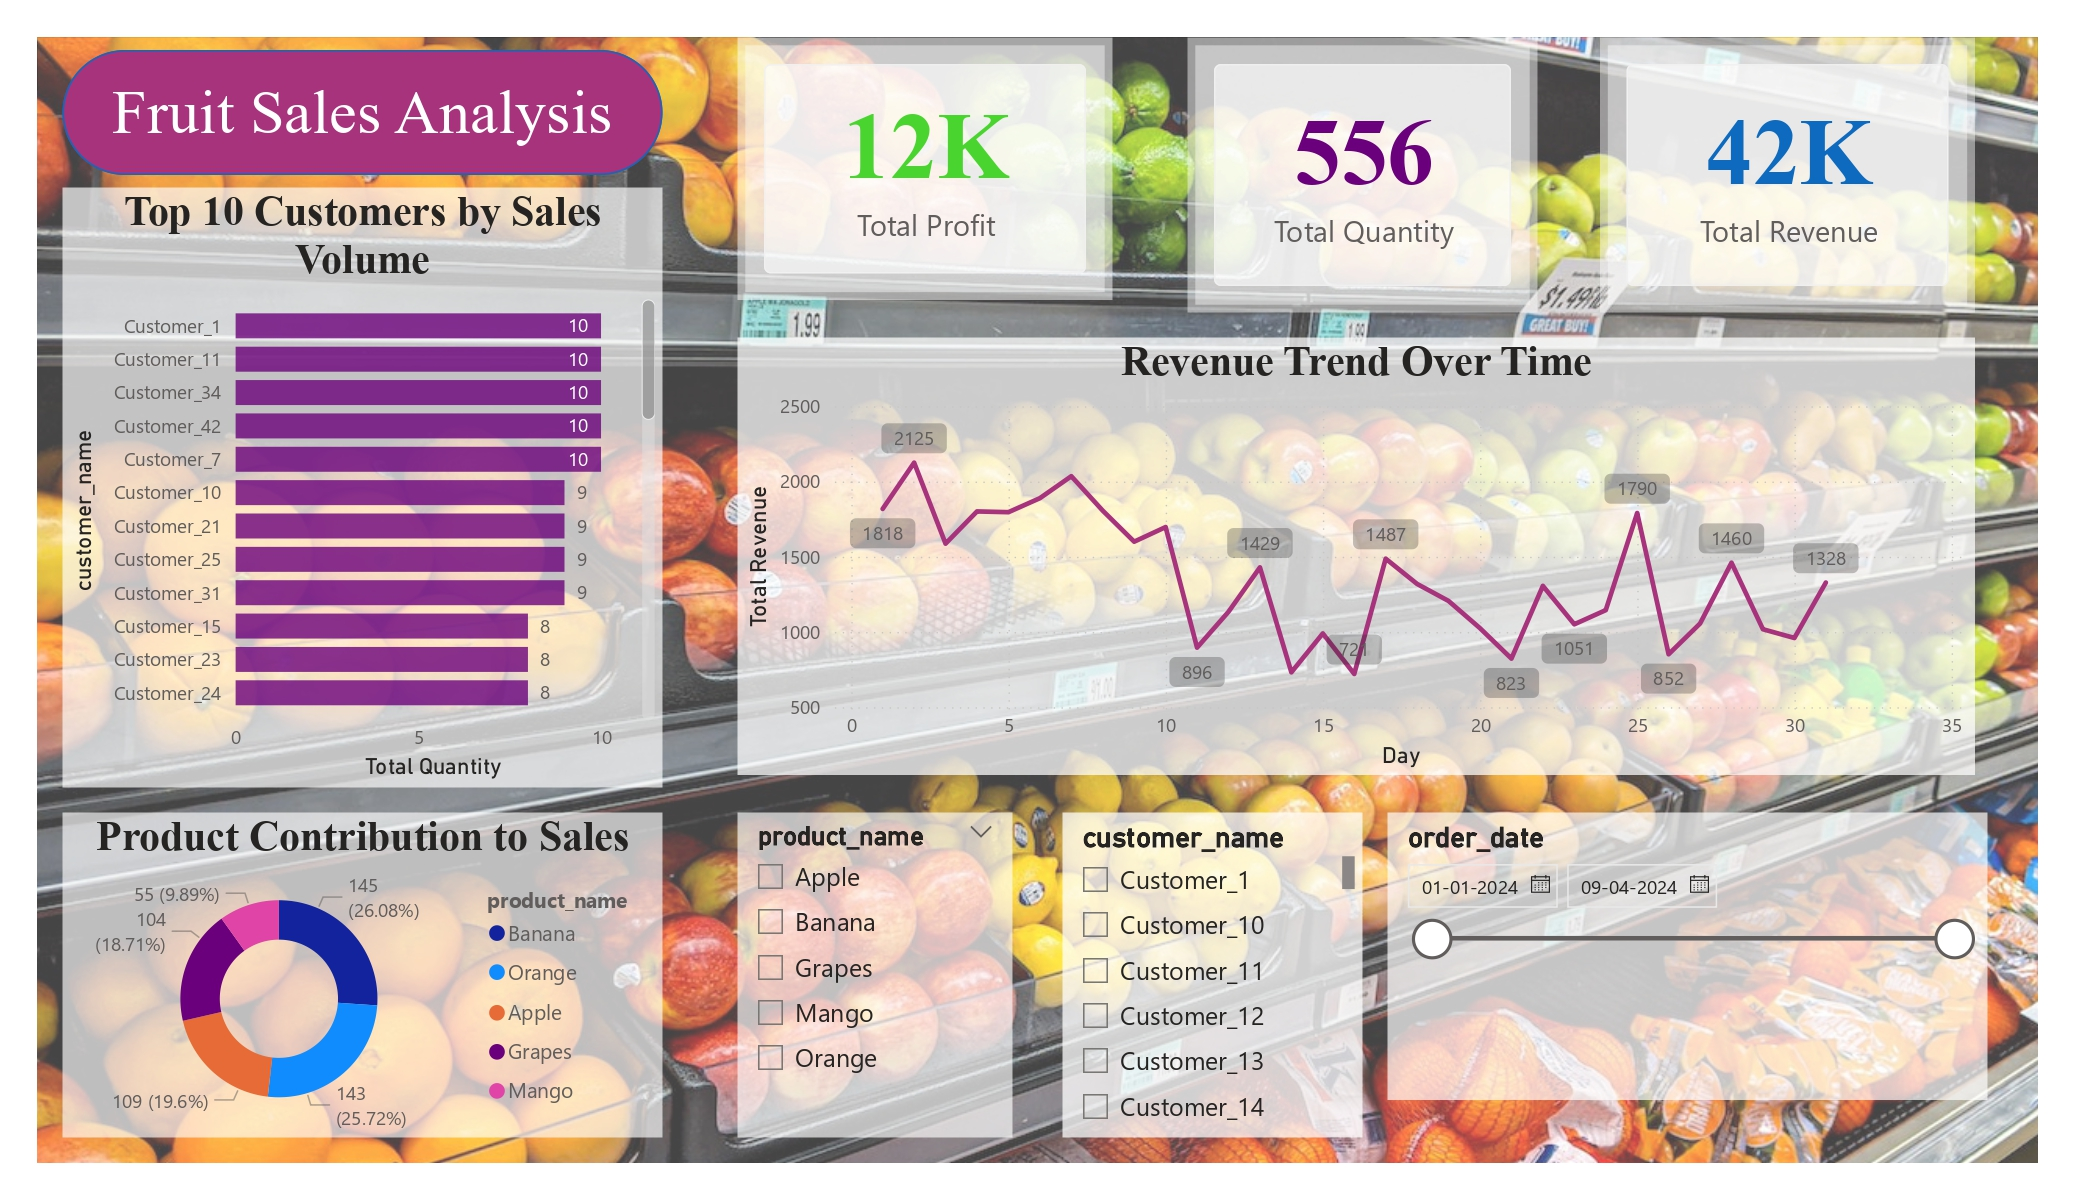

Layout of this report page (visuals, bound fields, positions):
{"tool":"powerbi","page":{"name":"Page 1","canvas":[1280,720],"ordinal":0},"visuals":[{"type":"shape","box":[16,8,384,80],"z":0},{"type":"clusteredBarChart","title":"Top 10 Customers by Sales Volume","fields":{"Category":["customers.customer_name"],"Y":["Measure.Total Quantity"]},"box":[16,96,384,384],"z":1000},{"type":"lineChart","title":"Revenue Trend Over Time","fields":{"Y":["Measure.Total Revenue"],"Category":["orders.order_date.Variation.Date Hierarchy.Day"]},"box":[448,192,792,280],"z":2000},{"type":"donutChart","title":"Product Contribution to Sales","fields":{"Category":["products.product_name"],"Y":["Measure.Total Quantity"]},"box":[16,496,384,208],"z":3000},{"type":"slicer","fields":{"Values":["products.product_name"]},"box":[448,496,176,208],"z":4000},{"type":"slicer","fields":{"Values":["customers.customer_name"]},"box":[656,496,192,208],"z":5000},{"type":"slicer","fields":{"Values":["orders.order_date"]},"box":[864,496,384,184],"z":6000},{"type":"cardVisual","fields":{"Data":["Measure.Total Profit"]},"box":[448,0,240,168],"z":7000},{"type":"cardVisual","fields":{"Data":["Measure.Total Quantity"]},"box":[736,0,224,176],"z":8000},{"type":"cardVisual","fields":{"Data":["Measure.Total Revenue"]},"box":[1000,0,240,176],"z":9000}]}

Visuals, with their boxes in screenshot pixels (x1, y1, x2, y2):
shape: rect(36, 45, 650, 173)
"Top 10 Customers by Sales Volume" clusteredBarChart: rect(36, 186, 650, 800)
"Revenue Trend Over Time" lineChart: rect(727, 339, 1993, 787)
"Product Contribution to Sales" donutChart: rect(36, 825, 650, 1158)
slicer - products.product_name: rect(727, 825, 1008, 1158)
slicer - customers.customer_name: rect(1060, 825, 1366, 1158)
slicer - orders.order_date: rect(1392, 825, 2006, 1120)
cardVisual - Measure.Total Profit: rect(727, 32, 1111, 301)
cardVisual - Measure.Total Quantity: rect(1187, 32, 1546, 314)
cardVisual - Measure.Total Revenue: rect(1609, 32, 1993, 314)
